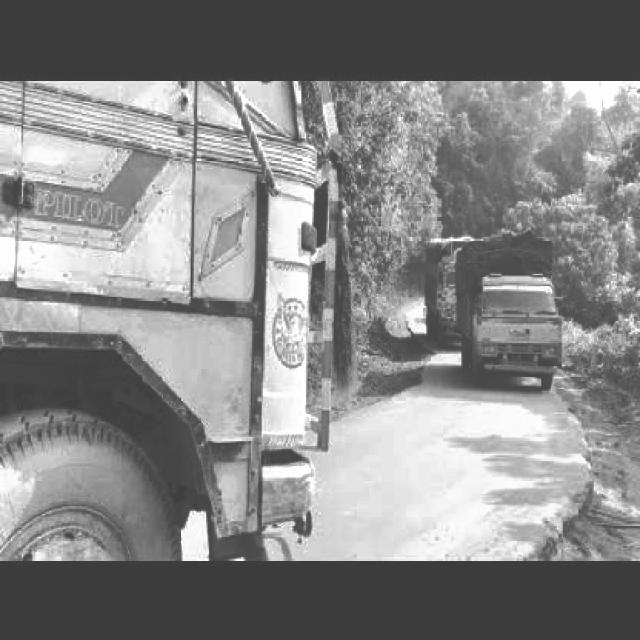HCV: (468, 244, 575, 400)
